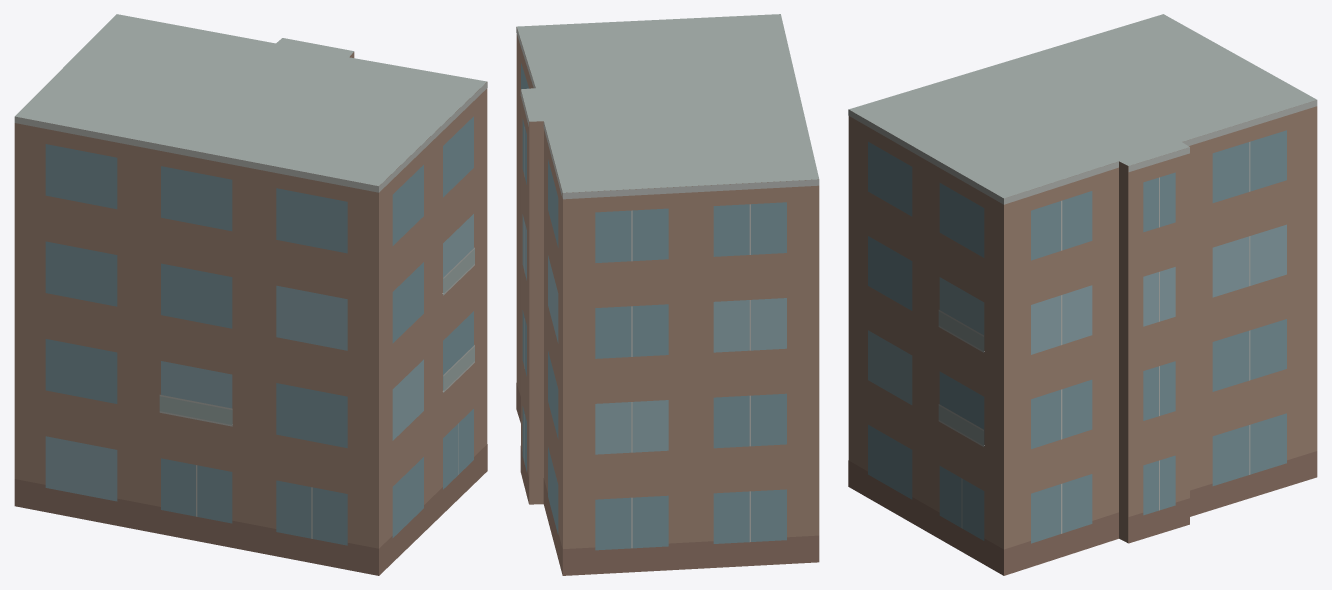
File: survey-upis-32780035.glb
The picture shows the model from 3 angles, left to right: view 1: azimuth 30°, elevation 25°; view 2: azimuth 150°, elevation 25°; view 3: azimuth 270°, elevation 25°; orthographic projection. The views are drawn at different scales.
Parts seen in each view (by area): view 1: survey-upis-32780035.tmp; view 2: survey-upis-32780035.tmp; view 3: survey-upis-32780035.tmp.
Part boxes in pixels (bbox=[...]): survey-upis-32780035.tmp: bbox=[14, 14, 487, 575]; survey-upis-32780035.tmp: bbox=[516, 14, 819, 575]; survey-upis-32780035.tmp: bbox=[848, 14, 1317, 575].
Bounding box in the file's own units: 15.42 × 14.7 × 16.56.
